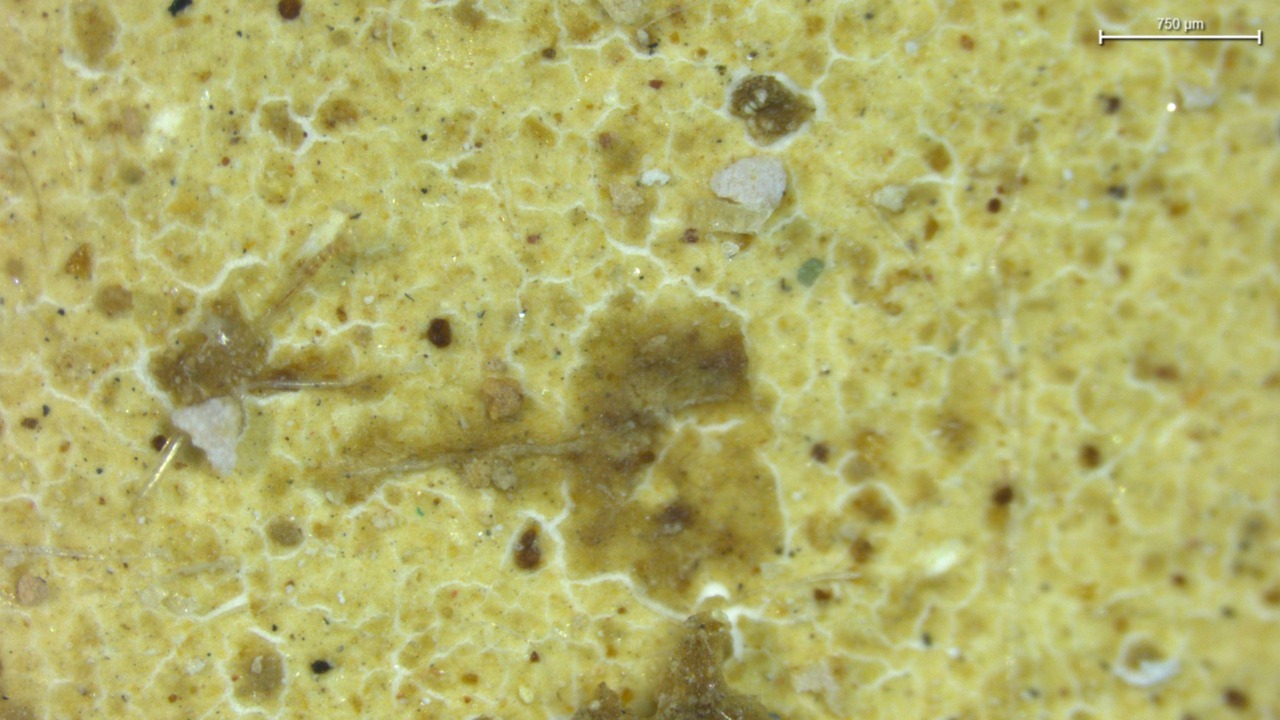microplastic_fragment: (172, 397, 243, 473), (710, 156, 786, 211)
